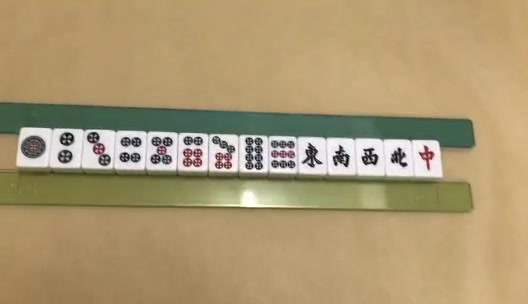1p: (21, 136, 46, 158)
1z: (302, 142, 323, 169)
2p: (57, 133, 74, 162)
2z: (333, 145, 350, 168)
3p: (87, 133, 111, 166)
3z: (362, 148, 379, 165)
4p: (119, 138, 141, 162)
4z: (390, 147, 408, 169)
5p: (151, 138, 172, 164)
6p: (184, 137, 202, 166)
7p: (211, 137, 235, 169)
7z: (419, 145, 435, 170)
8p: (245, 137, 264, 170)
9p: (271, 141, 296, 168)
